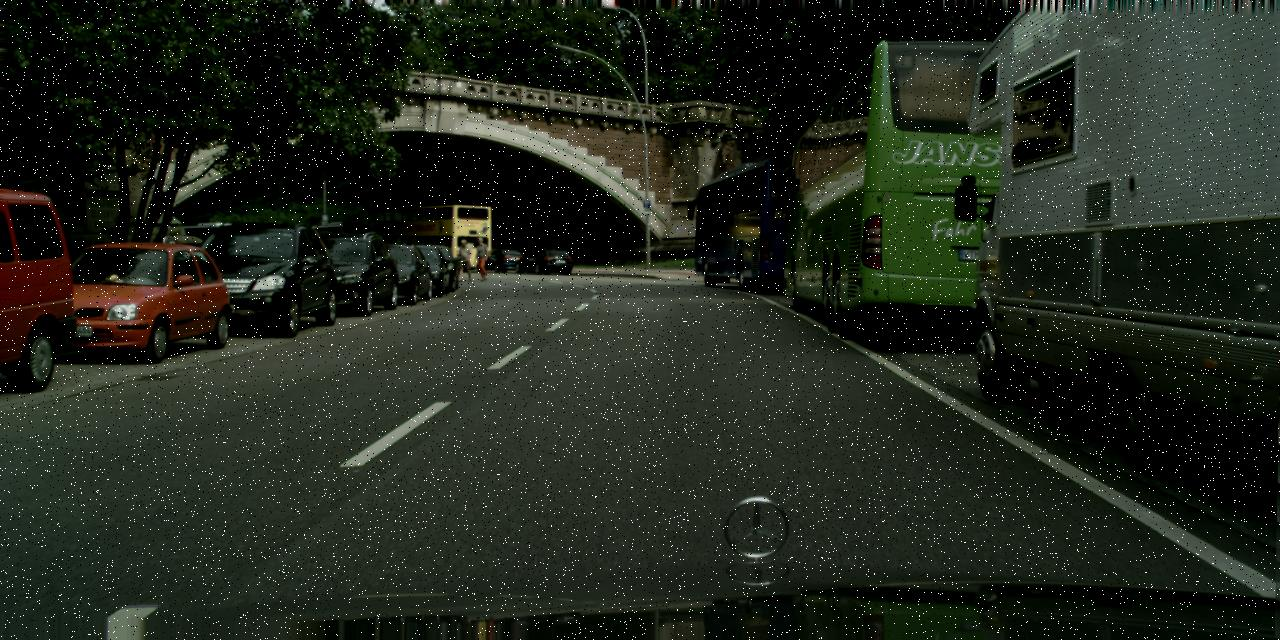ped: (472, 236, 490, 280), (455, 238, 472, 281)
